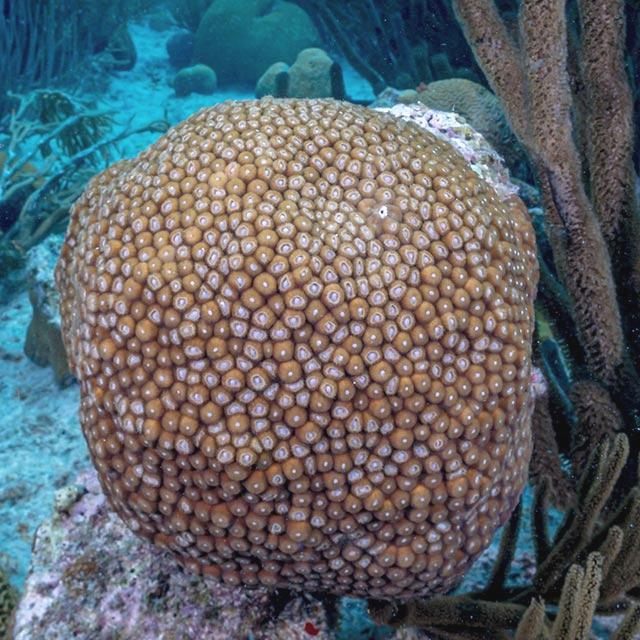Coral: (58, 98, 530, 595), (451, 0, 640, 511), (362, 429, 640, 640)
